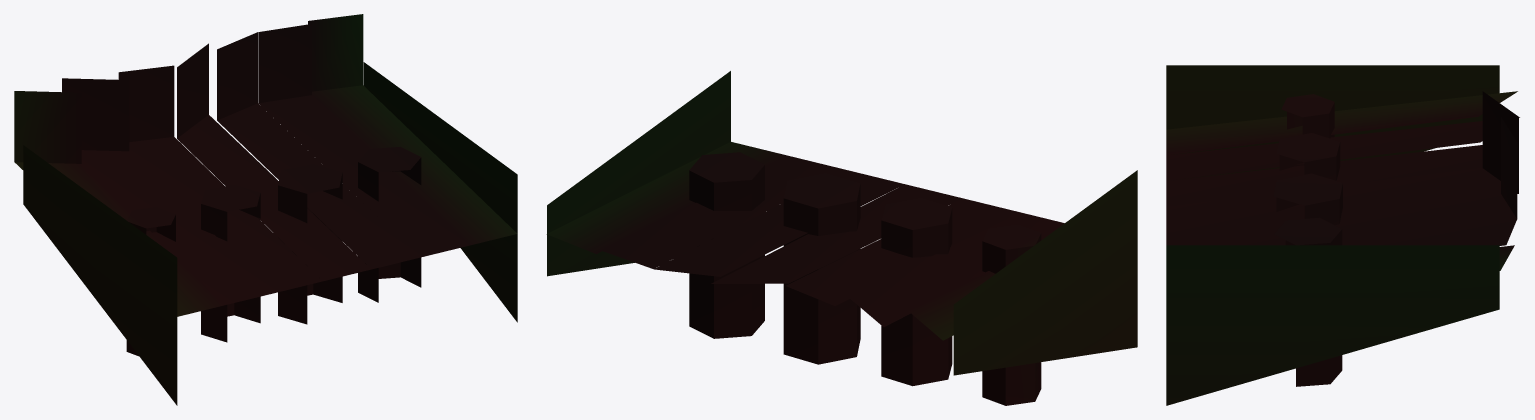
File: tf_basalt_overhang_6m.glb
3 renders of one model, left to right at view 1: azimuth 30°, elevation 25°; view 2: azimuth 150°, elevation 25°; view 3: azimuth 270°, elevation 25°, orthographic. The views are drawn at different scales.
Visible parts, largest first — view 1: tf_basalt_overhang_6m; view 2: tf_basalt_overhang_6m; view 3: tf_basalt_overhang_6m.
Part boxes in pixels (bbox=[...]): tf_basalt_overhang_6m: bbox=[14, 14, 517, 405]; tf_basalt_overhang_6m: bbox=[546, 71, 1137, 405]; tf_basalt_overhang_6m: bbox=[1166, 65, 1519, 405].
Size of what is drawn, in the model's own units: 6 by 3.38 by 5.
